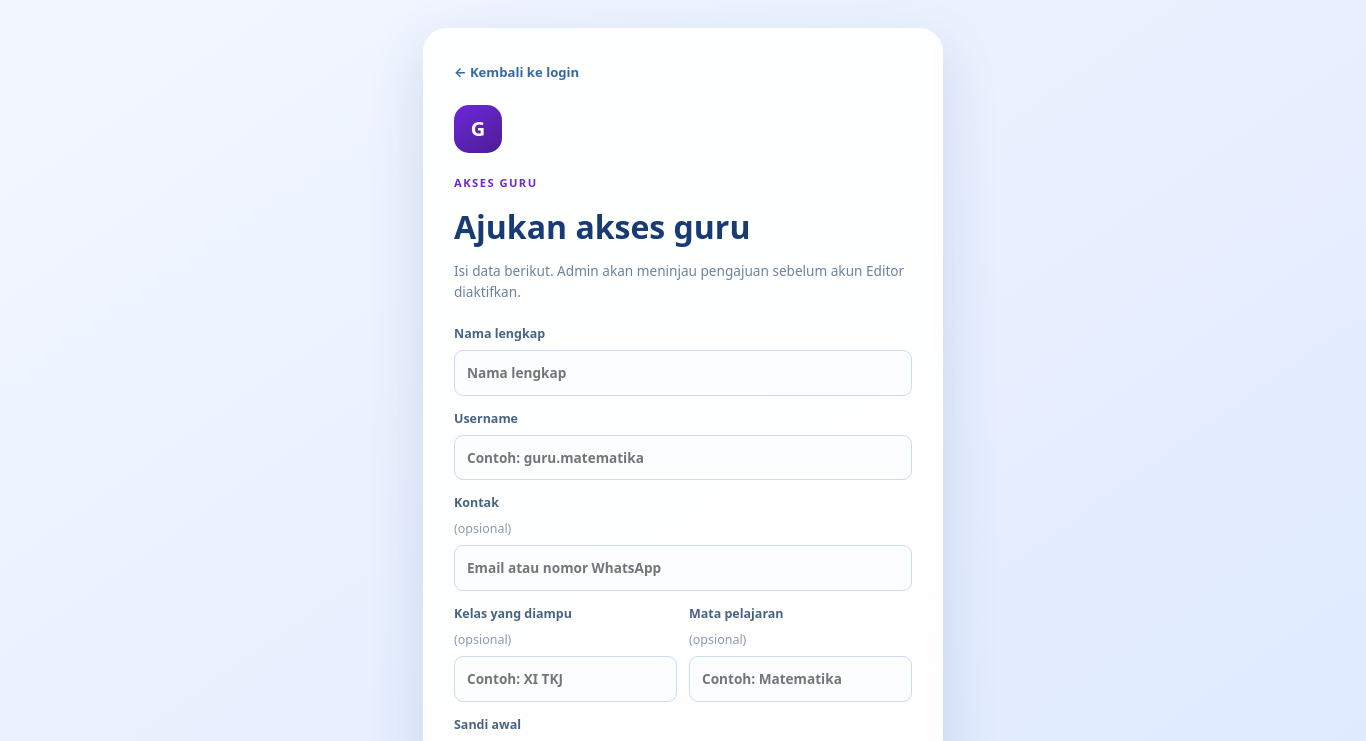
TeacherApplyView › submits a teacher access request and shows confirmation
The width and height of the screenshot is (1366, 741).
In the field with placeholder "Nama lengkap": (683, 373) top-left (454, 350), bottom-right (912, 396), type "Guru Matematika"
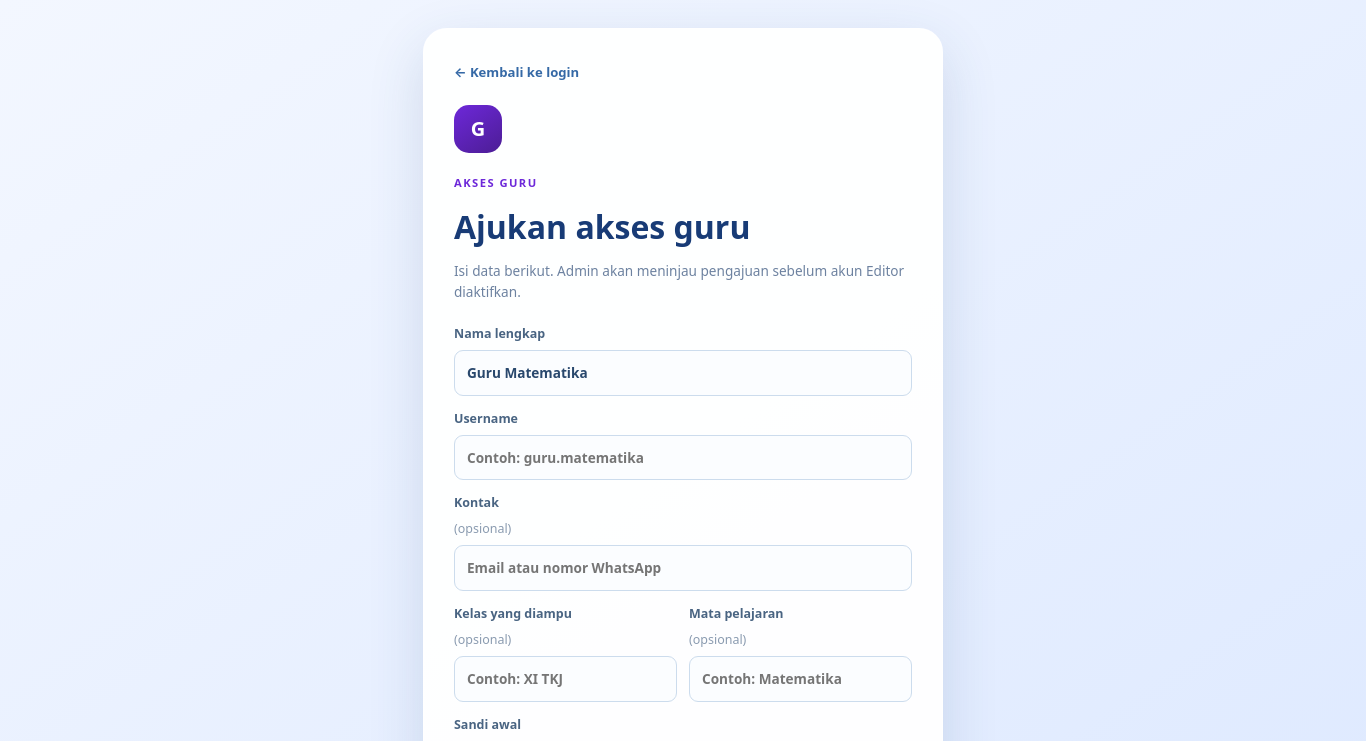
In the field labelled "Username": (683, 458) top-left (454, 435), bottom-right (912, 480), type "guru.matematika"
(page scrolled)
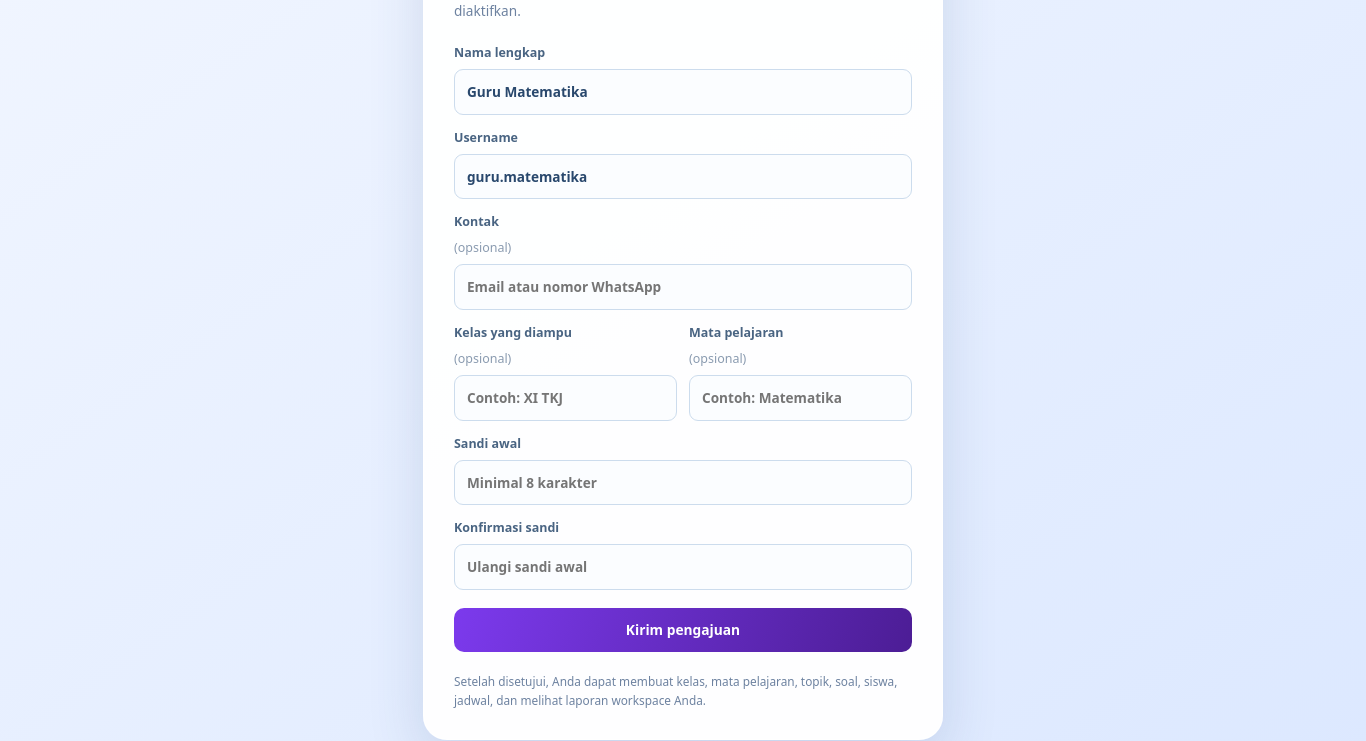
In the password field labelled "Sandi awal": (683, 483) top-left (454, 460), bottom-right (912, 506), type "rahasia123"
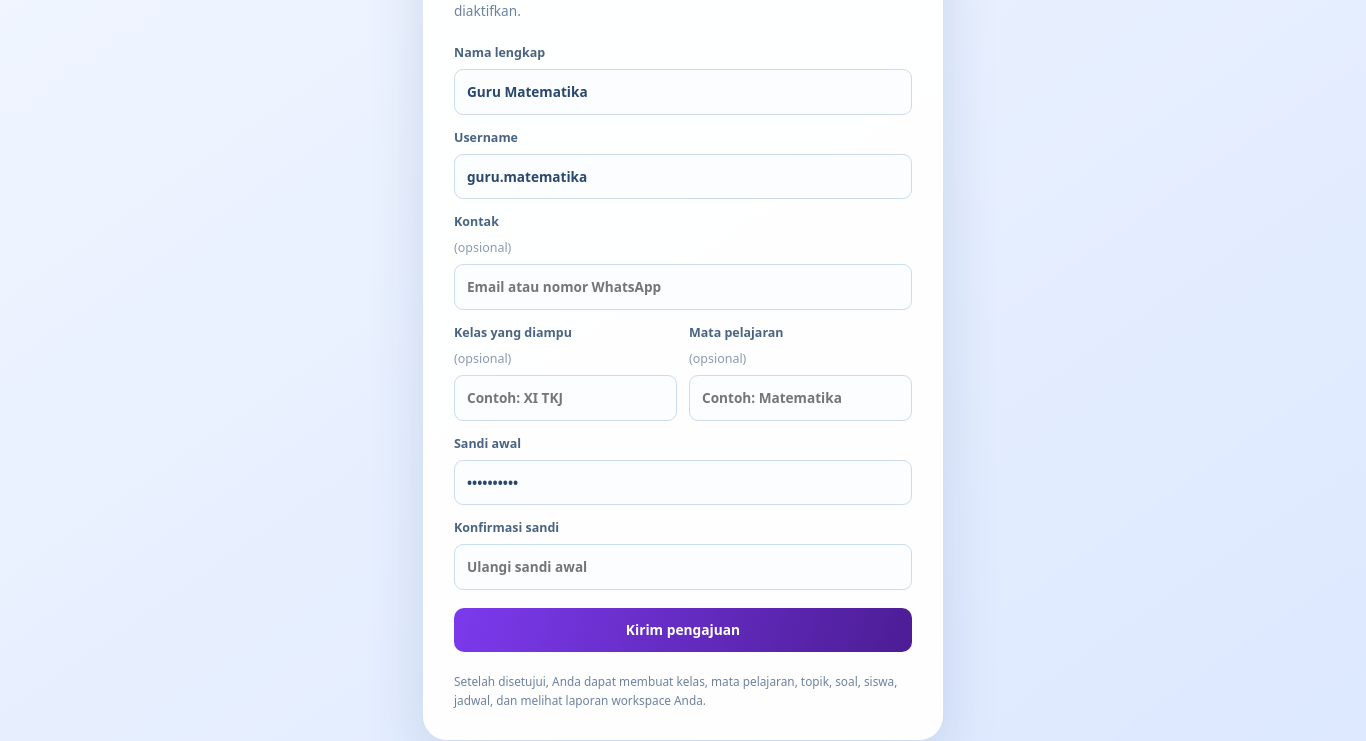
In the password field labelled "Konfirmasi sandi": (683, 567) top-left (454, 544), bottom-right (912, 590), type "rahasia123"
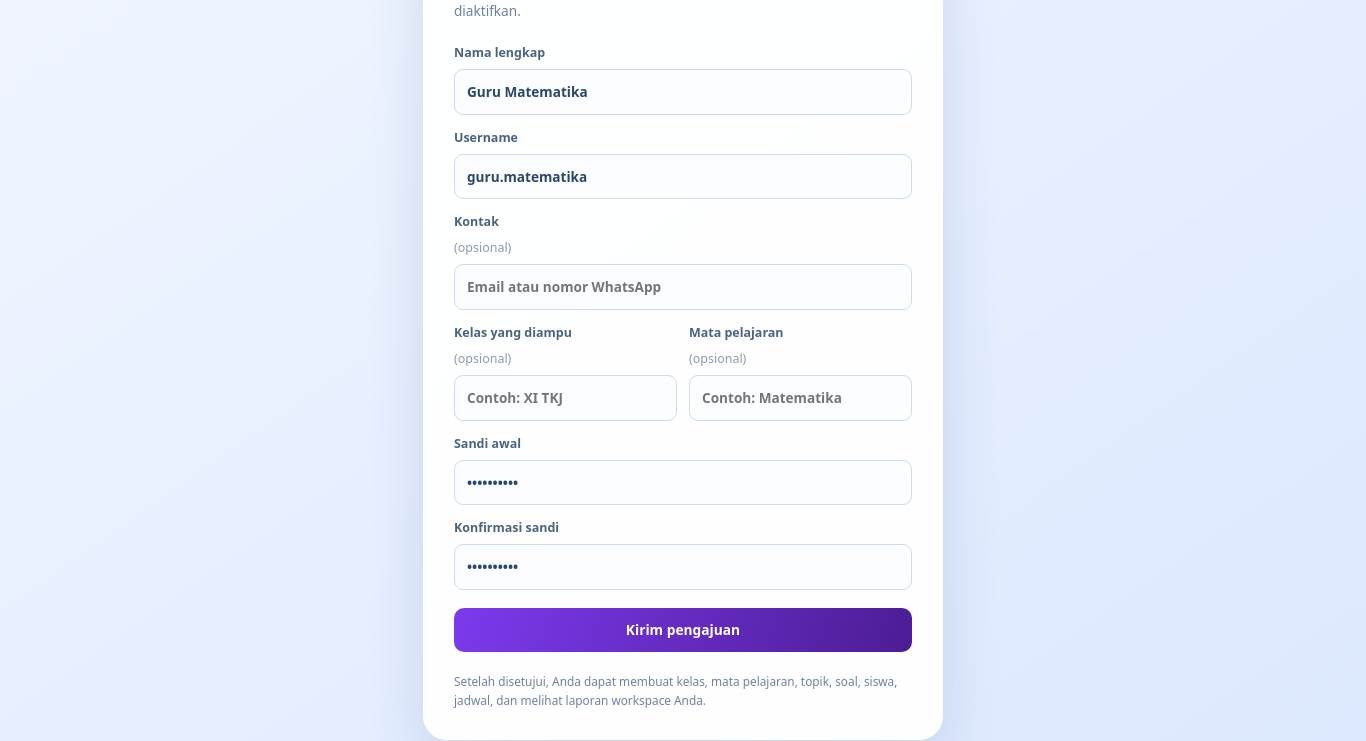
Submit the form, box top-left (454, 43), bottom-right (912, 652)
(page scrolled)
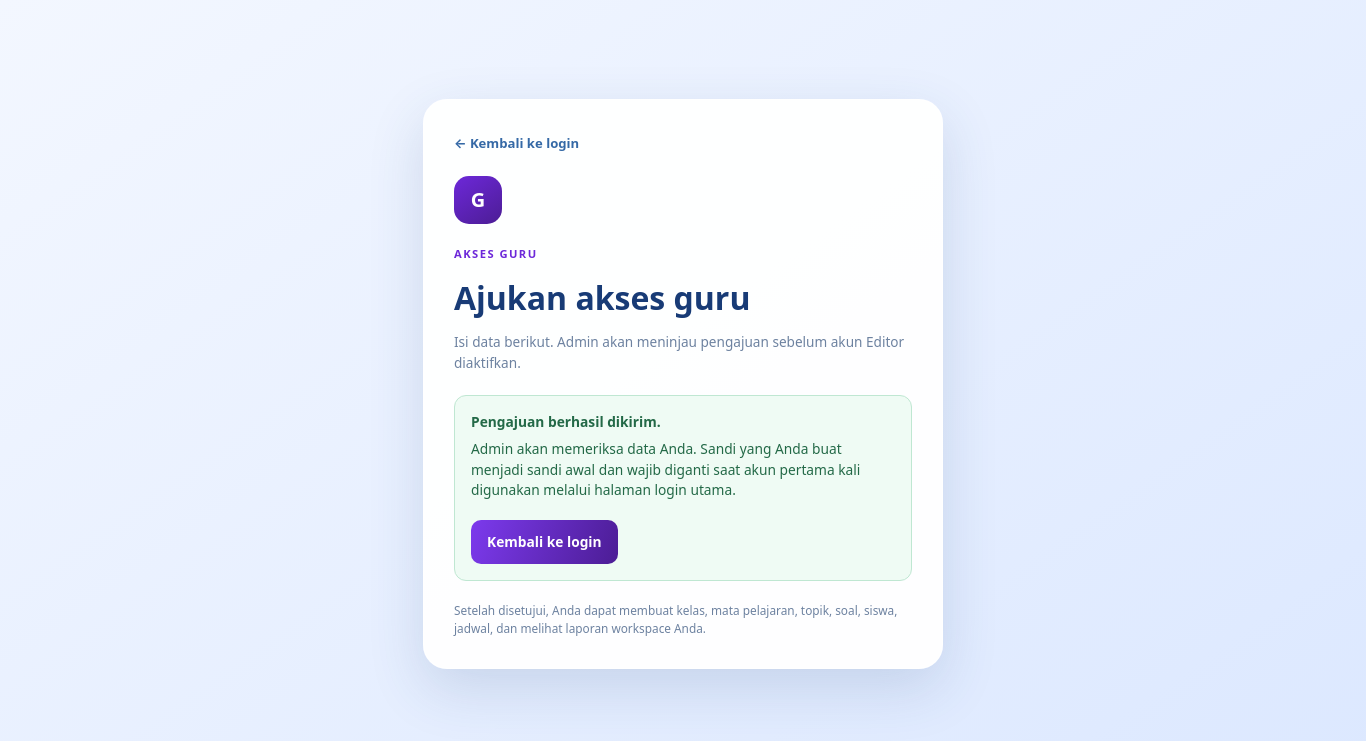
Now the message with class "teacher-apply-success" is shown, box top-left (454, 395), bottom-right (912, 581)
